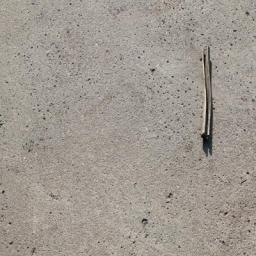FOD: (194, 42, 217, 146)
